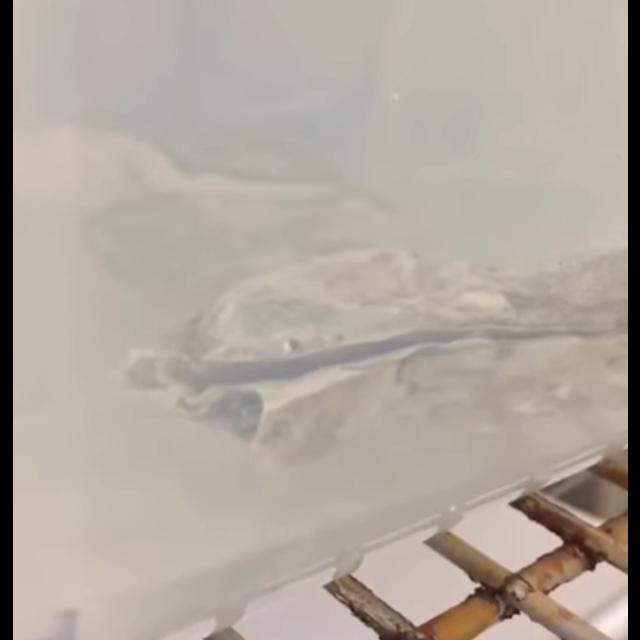Oyster-Closed: (60, 114, 364, 240)
Oyster-Open: (118, 248, 628, 466)
